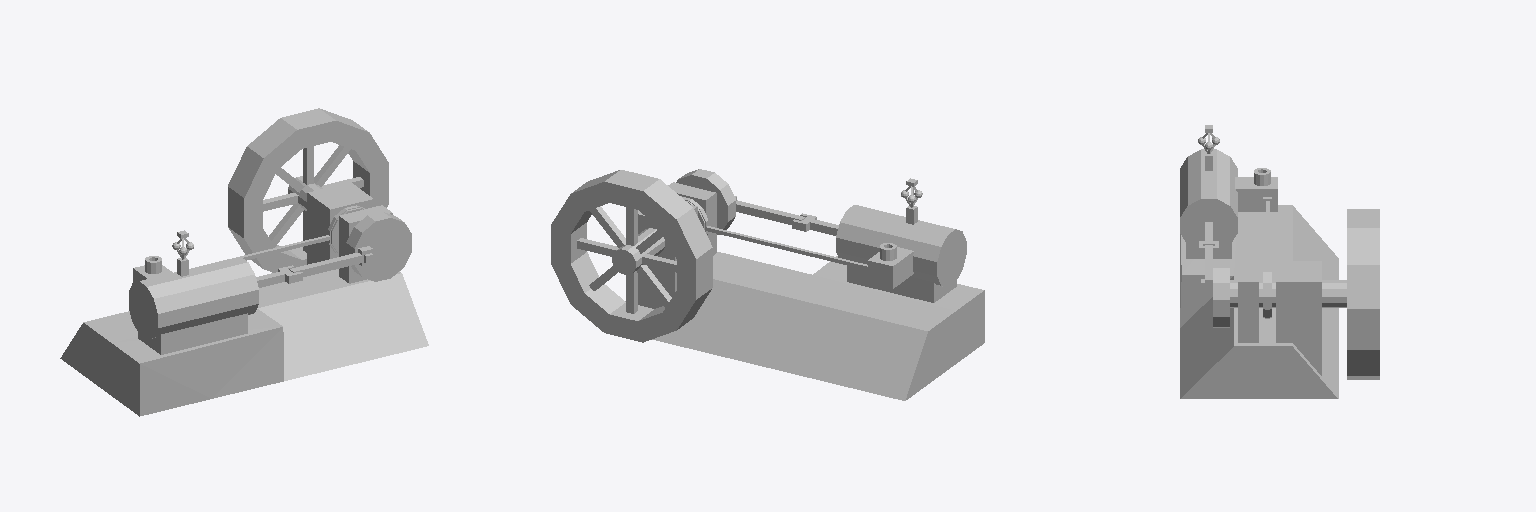
File: steam_engine_mirrored.obj
The picture shows the model from 3 angles: view 1: azimuth 30°, elevation 25°; view 2: azimuth 150°, elevation 25°; view 3: azimuth 270°, elevation 25°; orthographic projection.
Visible parts, largest first — view 1: cube, cylinder, tube; view 2: cube, tube, cylinder; view 3: cube, cylinder, tube.
Part boxes in pixels (x1,y1,x2,y2): cube: (60,145,428,416); cylinder: (129,176,411,339); tube: (145,108,388,273); cube: (577,178,984,400); tube: (551,170,896,342); cylinder: (612,169,966,287); cube: (1180,125,1338,398); cylinder: (1180,149,1346,327); tube: (1254,168,1379,379).
Bounding box in the file's own units: 5.75 × 2.75 × 3.